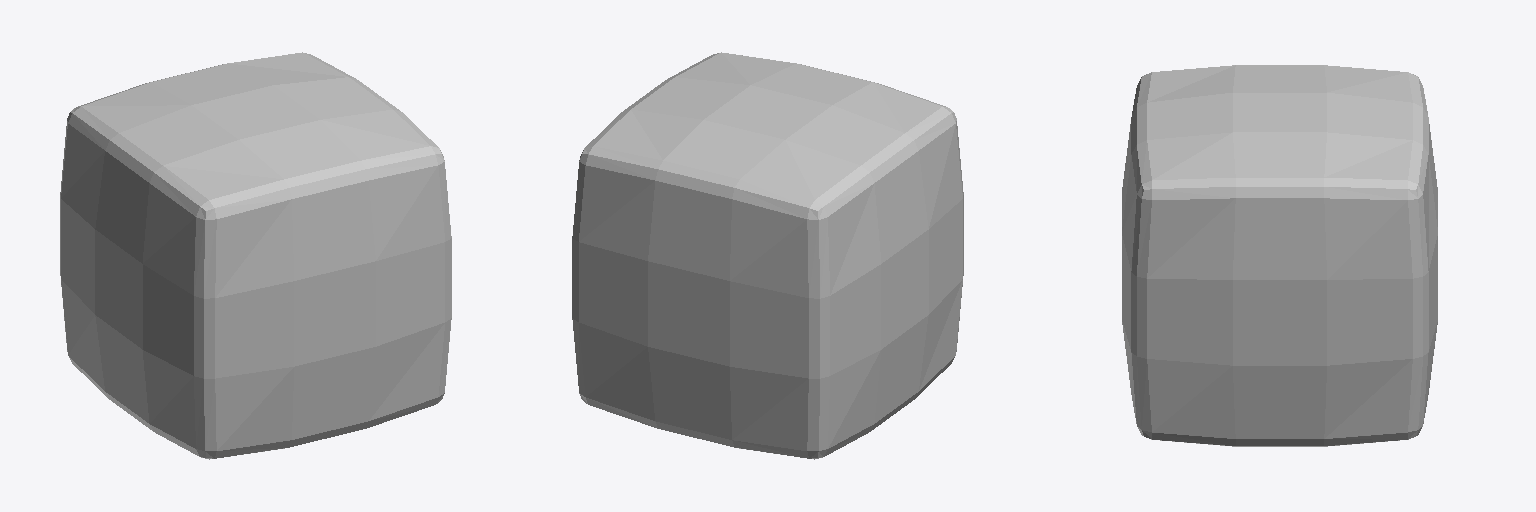
File: block_wall.obj
3 renders of one model, left to right at view 1: azimuth 30°, elevation 25°; view 2: azimuth 150°, elevation 25°; view 3: azimuth 270°, elevation 25°, orthographic.
Parts seen in each view (by area): view 1: Cube_meshId0_name; view 2: Cube_meshId0_name; view 3: Cube_meshId0_name.
Part boxes in pixels (left/top/right/bottom): Cube_meshId0_name: left=60, top=52, right=451, bottom=459; Cube_meshId0_name: left=572, top=52, right=963, bottom=459; Cube_meshId0_name: left=1122, top=65, right=1437, bottom=446.
Bounding box in the file's own units: 1 × 1 × 1.